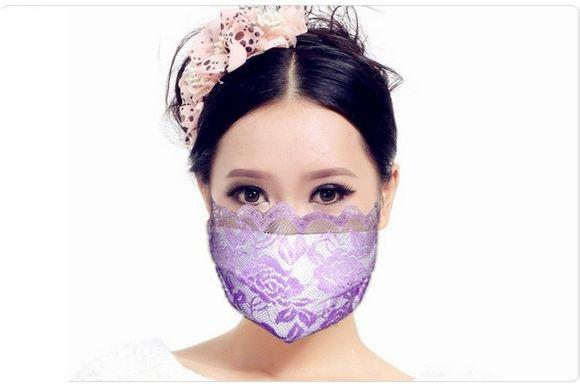OK: (216, 167, 372, 323)
